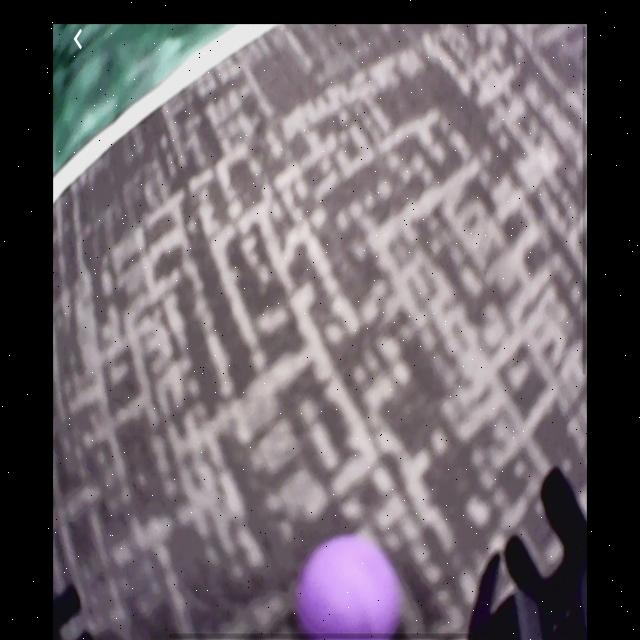ball: (299, 538, 405, 638)
